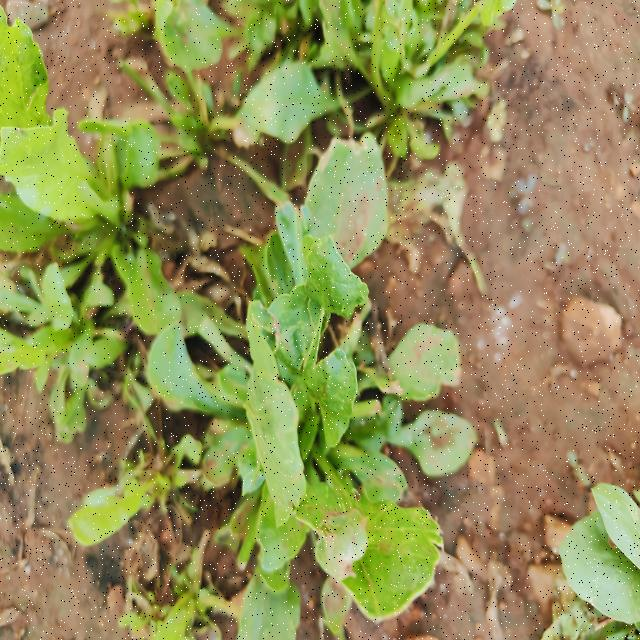leaves: (270, 447, 446, 639), (215, 271, 332, 555), (263, 125, 408, 351), (323, 315, 470, 428), (285, 221, 376, 401), (274, 350, 385, 468)
